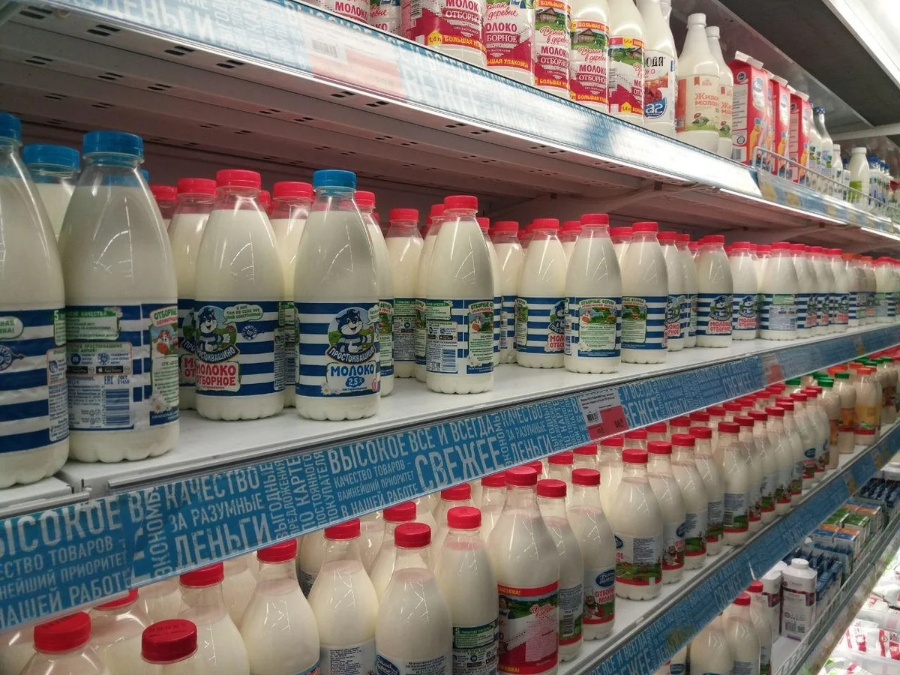milk: (56, 124, 192, 462), (186, 168, 295, 438), (289, 171, 392, 432), (422, 192, 511, 407), (613, 214, 673, 374), (569, 214, 626, 378), (685, 232, 737, 353)
